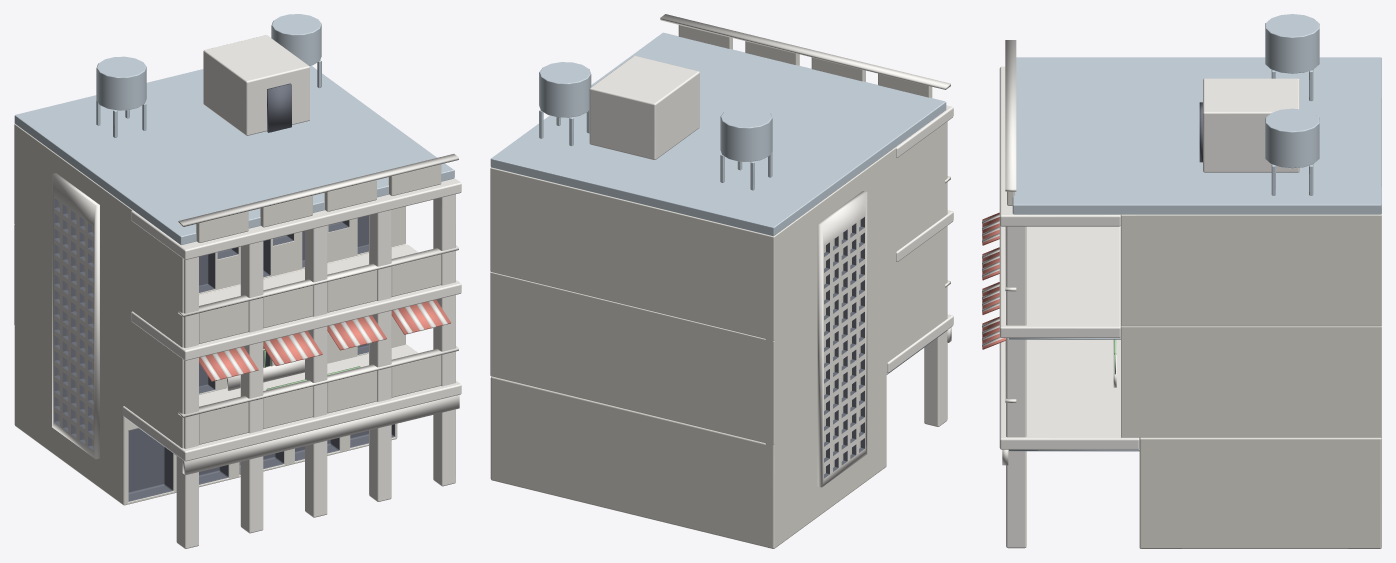
Rendered from chunghwa.glb.
3 views of the same model, side by side, from view 1: azimuth 30°, elevation 25°; view 2: azimuth 150°, elevation 25°; view 3: azimuth 270°, elevation 25° (orthographic). The views are drawn at different scales.
Visible parts, largest first — view 1: block, bridge; view 2: block; view 3: block, bridge.
Boxes of the visible parts, x1,y1,x2,y2 form: block: (14,14,461,548); bridge: (227,348,360,390); block: (490,14,953,548); block: (982,14,1381,548); bridge: (1026,339,1116,388).
Size of the model in its own units: 9.59 by 12.2 by 10.72.
